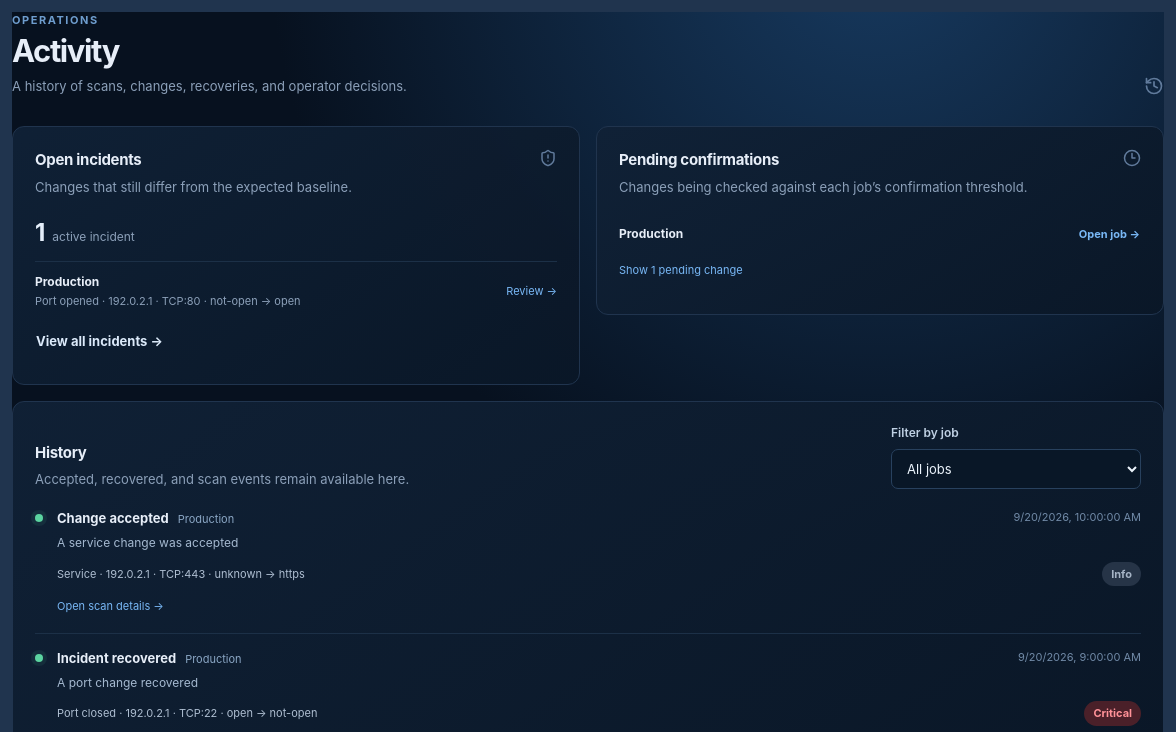
activity history › shows the no-pending state only when the API total is zero
The image size is (1176, 732).
What coordinates should you click on to do the following:
click the button "Show 1 pending change"
I would click on:
 (681, 266)
Its box is [619,254,743,278].
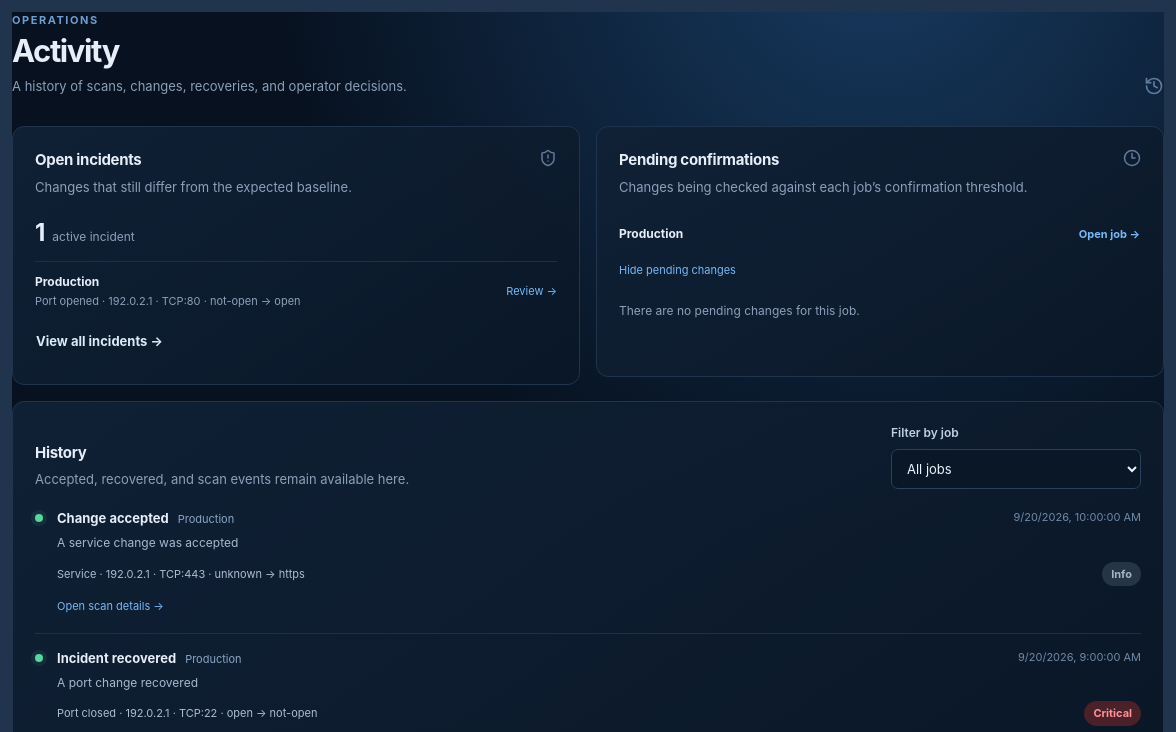
Now the text "There are no pending changes for this job." is shown, box [619,302,860,318]
